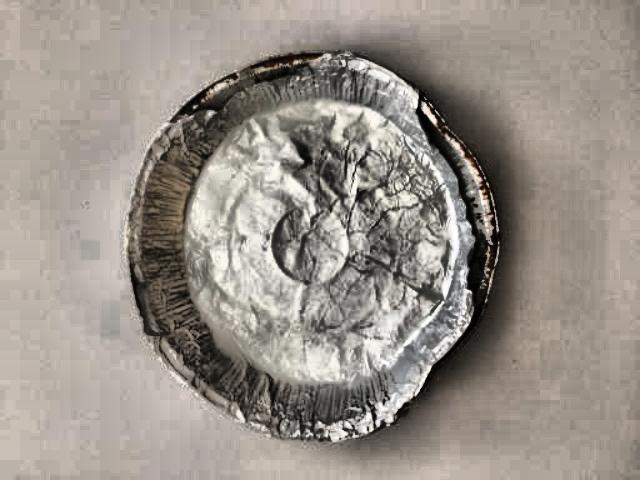Almennt: (90, 31, 520, 472)
